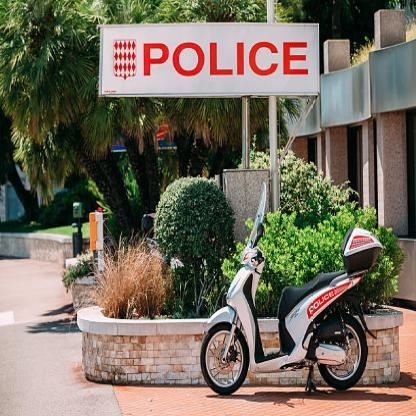Motorcycle: (196, 206, 384, 400)
